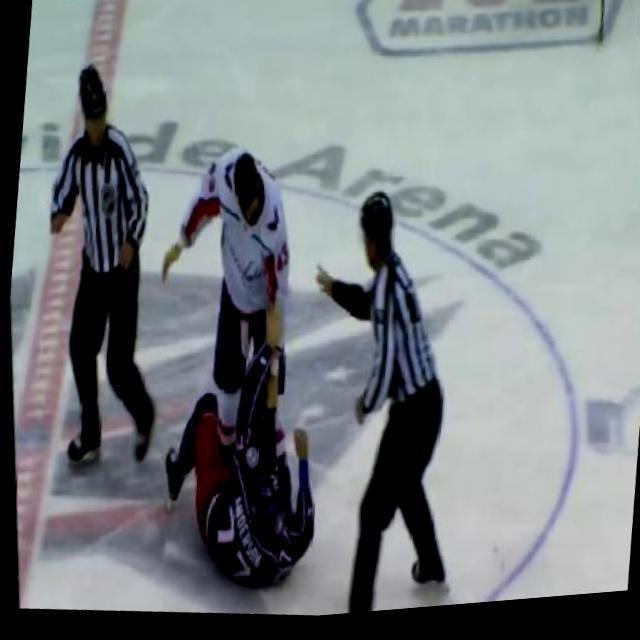fight: (106, 130, 362, 620)
